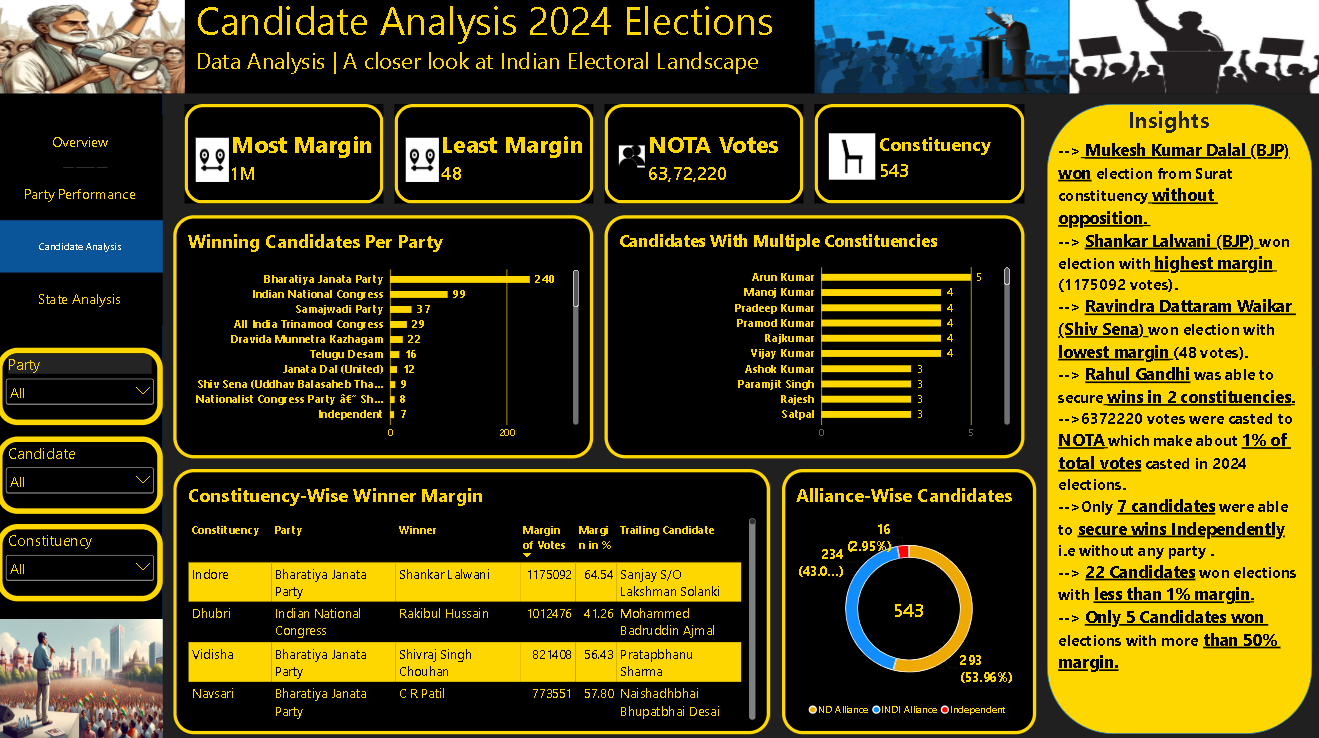

Layout of this report page (visuals, bound fields, positions):
{"tool":"powerbi","page":{"name":"Candidate Analysis","canvas":[1920,1080],"ordinal":2},"visuals":[{"type":"shape","box":[0,-8,240,1088],"z":0},{"type":"shape","box":[240,0,1680,144],"z":1000},{"type":"textbox","box":[288,0,1072,144],"z":2000},{"type":"tableEx","title":"Constituency-Wise Winner Margin","fields":{"Values":["winning_cand_votes.Constituency","winning_cand_votes.Party","winning_cand_votes.Winning_Candidate","Sum(winning_cand_votes.Winning_Margin)","Sum(winning_cand_votes.Margin_Percent)","statewise_results.trailing_candidate"]},"box":[256,688,864,384],"z":3000},{"type":"slicer","fields":{"Values":["winning_cand_votes.Winning_Candidate"]},"box":[0,640,240,112],"z":4000},{"type":"slicer","fields":{"Values":["winning_cand_votes.Party"]},"box":[0,512,240,112],"z":5000},{"type":"cardVisual","fields":{"Data":["Sum(lowest_winning_margin.Winning_Margin)"]},"box":[576,160,288,144],"z":6000},{"type":"image","box":[592,208,48,64],"z":7000},{"type":"image","box":[896,192,64,80],"z":8000},{"type":"image","box":[528,464,240,176],"z":9000},{"type":"cardVisual","fields":{"Data":["Sum(nota_votes.sum(total_votes))"]},"box":[880,160,288,144],"z":10000},{"type":"shape","box":[1520,160,384,912],"z":11000},{"type":"slicer","fields":{"Values":["winning_cand_votes.Constituency"]},"box":[0,768,240,112],"z":12000},{"type":"clusteredBarChart","title":"Winning Candidates Per Party","fields":{"Category":["winning_cand_votes.Party"],"Y":["CountNonNull(winning_cand_votes.Winning_Candidate)"]},"box":[256,320,608,352],"z":13000},{"type":"clusteredBarChart","title":"Candidates With Multiple Constituencies","fields":{"Category":["multiple_contested_candidates.Candidate"],"Y":["Sum(multiple_contested_candidates.Constituency_Contested)"]},"box":[880,320,608,352],"z":14000},{"type":"donutChart","title":"Alliance-Wise Candidates","fields":{"Category":["ndavsindi.Alliance"],"Y":["CountNonNull(ndavsindi.party)"]},"box":[1136,688,368,384],"z":15000},{"type":"textbox","box":[1632,160,128,48],"z":16000},{"type":"textbox","box":[1536,208,352,832],"z":17000},{"type":"cardVisual","fields":{"Data":["CountNonNull(winning_cand_votes.Constituency)"]},"box":[1184,160,304,144],"z":18000},{"type":"image","box":[96,192,64,80],"z":19000},{"type":"image","box":[0,904,240,176],"z":20000},{"type":"image","box":[0,0,272,144],"z":21000},{"type":"image","box":[1552,0,368,144],"z":22000},{"type":"pageNavigator","box":[0,176,240,304],"z":23000},{"type":"image","box":[1184,0,368,144],"z":24000},{"type":"cardVisual","fields":{"Data":["Sum(highest_winning_margin.Winning_Margin)"]},"box":[272,160,288,144],"z":25000},{"type":"image","box":[288,208,48,64],"z":26000}]}

Visuals, with their boxes in screenshot pixels (x1, y1, x2, y2), scaled from the page's 1920x1080 canvas onto the 1319x738 screenshot:
shape: region(0, 0, 165, 737)
shape: region(165, 0, 1318, 98)
textbox: region(198, 0, 934, 98)
"Constituency-Wise Winner Margin" tableEx: region(176, 470, 769, 733)
slicer - winning_cand_votes.Winning_Candidate: region(0, 437, 165, 514)
slicer - winning_cand_votes.Party: region(0, 350, 165, 426)
cardVisual - Sum(lowest_winning_margin.Winning_Margin): region(396, 109, 594, 208)
image: region(407, 142, 440, 186)
image: region(616, 131, 660, 186)
image: region(363, 317, 528, 437)
cardVisual - Sum(nota_votes.sum(total_votes)): region(605, 109, 802, 208)
shape: region(1044, 109, 1308, 733)
slicer - winning_cand_votes.Constituency: region(0, 525, 165, 601)
"Winning Candidates Per Party" clusteredBarChart: region(176, 219, 594, 459)
"Candidates With Multiple Constituencies" clusteredBarChart: region(605, 219, 1022, 459)
"Alliance-Wise Candidates" donutChart: region(780, 470, 1033, 733)
textbox: region(1121, 109, 1209, 142)
textbox: region(1055, 142, 1297, 711)
cardVisual - CountNonNull(winning_cand_votes.Constituency): region(813, 109, 1022, 208)
image: region(66, 131, 110, 186)
image: region(0, 618, 165, 737)
image: region(0, 0, 187, 98)
image: region(1066, 0, 1318, 98)
pageNavigator: region(0, 120, 165, 328)
image: region(813, 0, 1066, 98)
cardVisual - Sum(highest_winning_margin.Winning_Margin): region(187, 109, 385, 208)
image: region(198, 142, 231, 186)
